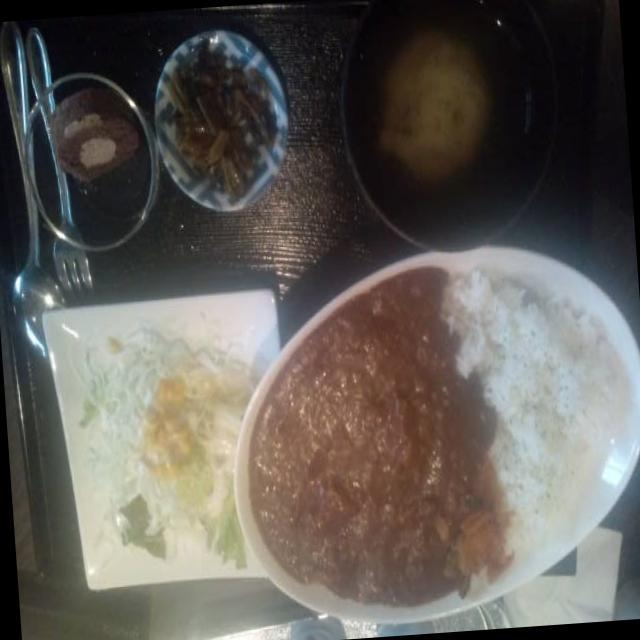Beef Curry: (240, 282, 496, 622)
